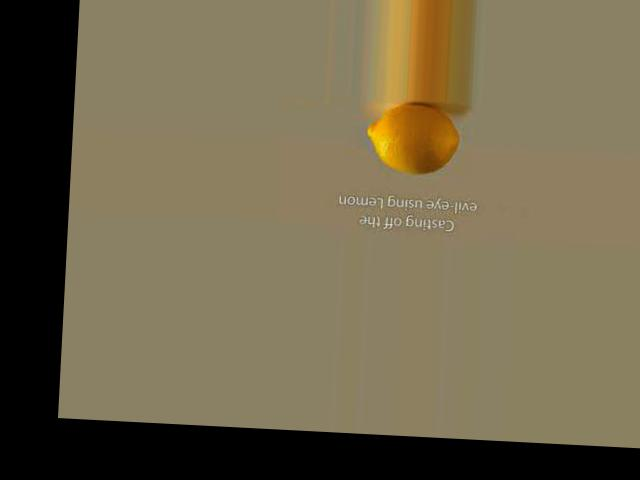lemon: (352, 103, 469, 182)
